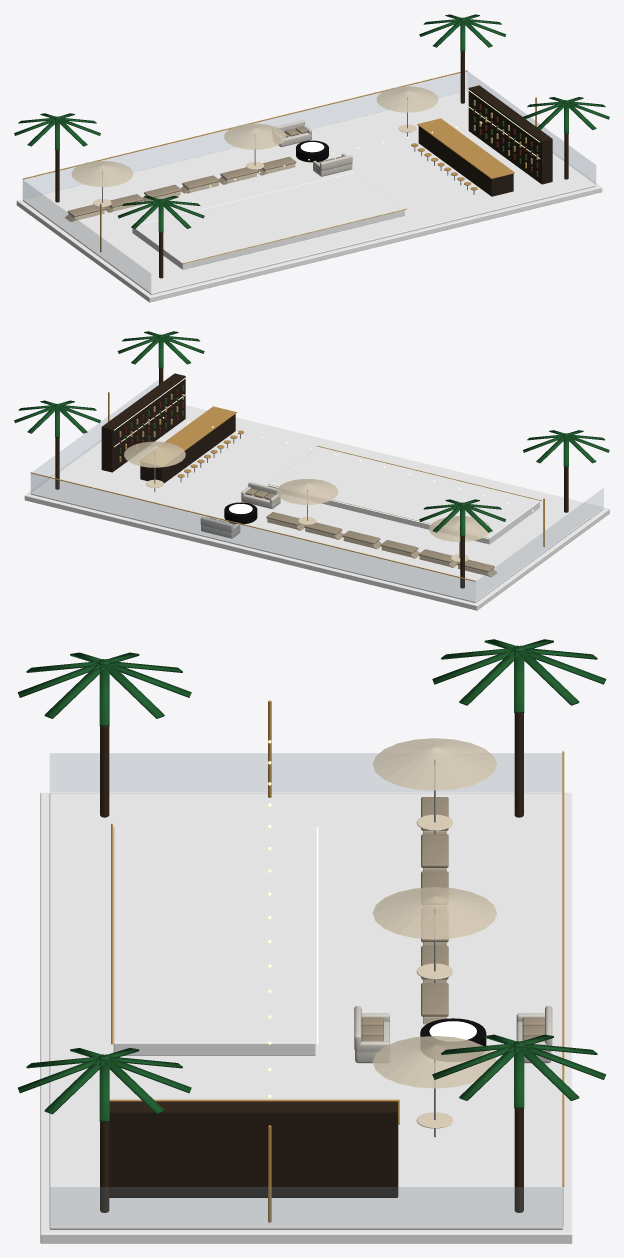
Rendered from room_rooftop.glb.
3 renders of one model, top to bottom at view 1: azimuth 30°, elevation 25°; view 2: azimuth 150°, elevation 25°; view 3: azimuth 270°, elevation 25°, orthographic. The views are drawn at different scales.
Parts seen in each view (by area): view 1: Pub4_RooftopBar_deck, Pub4_RooftopBar_stone, Pub4_RooftopBar_gclear, Pub4_RooftopBar_woodDk, Pub4_RooftopBar_leaf, Pub4_RooftopBar_curtain, Pub4_RooftopBar_brass, Pub4_RooftopBar_soft, Pub4_RooftopBar_fab5, Pub4_RooftopBar_white, Pub4_RooftopBar_trunk, Pub4_RooftopBar_led (+1 smaller); view 2: Pub4_RooftopBar_deck, Pub4_RooftopBar_stone, Pub4_RooftopBar_gclear, Pub4_RooftopBar_woodDk, Pub4_RooftopBar_leaf, Pub4_RooftopBar_curtain, Pub4_RooftopBar_brass, Pub4_RooftopBar_soft, Pub4_RooftopBar_fab5, Pub4_RooftopBar_white, Pub4_RooftopBar_trunk, Pub4_RooftopBar_led (+1 smaller); view 3: Pub4_RooftopBar_deck, Pub4_RooftopBar_stone, Pub4_RooftopBar_gclear, Pub4_RooftopBar_woodDk, Pub4_RooftopBar_leaf, Pub4_RooftopBar_curtain, Pub4_RooftopBar_soft, Pub4_RooftopBar_trunk, Pub4_RooftopBar_brass, Pub4_RooftopBar_fab5, Pub4_RooftopBar_white, Pub4_RooftopBar_black (+1 smaller).
Boxes of the visible parts, bbox=[...] form: Pub4_RooftopBar_deck: bbox=[23, 91, 595, 294]; Pub4_RooftopBar_stone: bbox=[16, 90, 602, 302]; Pub4_RooftopBar_gclear: bbox=[22, 71, 595, 292]; Pub4_RooftopBar_woodDk: bbox=[418, 85, 552, 196]; Pub4_RooftopBar_leaf: bbox=[14, 14, 609, 232]; Pub4_RooftopBar_curtain: bbox=[71, 86, 438, 186]; Pub4_RooftopBar_brass: bbox=[23, 70, 536, 263]; Pub4_RooftopBar_soft: bbox=[64, 126, 343, 221]; Pub4_RooftopBar_fab5: bbox=[273, 120, 352, 176]; Pub4_RooftopBar_white: bbox=[68, 124, 416, 220]; Pub4_RooftopBar_trunk: bbox=[55, 51, 568, 278]; Pub4_RooftopBar_led: bbox=[140, 89, 540, 224]; Pub4_RooftopBar_deck: bbox=[31, 406, 603, 602]; Pub4_RooftopBar_stone: bbox=[24, 405, 609, 610]; Pub4_RooftopBar_gclear: bbox=[30, 380, 603, 601]; Pub4_RooftopBar_woodDk: bbox=[101, 373, 235, 483]; Pub4_RooftopBar_leaf: bbox=[14, 331, 609, 536]; Pub4_RooftopBar_curtain: bbox=[124, 441, 490, 541]; Pub4_RooftopBar_brass: bbox=[30, 392, 544, 581]; Pub4_RooftopBar_soft: bbox=[210, 488, 497, 577]; Pub4_RooftopBar_fab5: bbox=[200, 482, 280, 538]; Pub4_RooftopBar_white: bbox=[146, 479, 493, 575]; Pub4_RooftopBar_trunk: bbox=[55, 368, 568, 588]; Pub4_RooftopBar_led: bbox=[114, 378, 488, 538]; Pub4_RooftopBar_deck: bbox=[49, 793, 563, 1229]; Pub4_RooftopBar_stone: bbox=[40, 792, 572, 1243]; Pub4_RooftopBar_gclear: bbox=[50, 753, 563, 1226]; Pub4_RooftopBar_woodDk: bbox=[109, 1101, 398, 1197]; Pub4_RooftopBar_leaf: bbox=[17, 639, 606, 1121]; Pub4_RooftopBar_curtain: bbox=[372, 738, 496, 1088]; Pub4_RooftopBar_soft: bbox=[361, 797, 544, 1041]; Pub4_RooftopBar_trunk: bbox=[100, 713, 523, 1212]; Pub4_RooftopBar_brass: bbox=[109, 700, 564, 1222]; Pub4_RooftopBar_fab5: bbox=[354, 1006, 552, 1063]; Pub4_RooftopBar_white: bbox=[416, 814, 452, 1128]; Pub4_RooftopBar_black: bbox=[420, 1018, 486, 1061].
Size of the model in its own units: 30.17 by 5.45 by 16.05.
